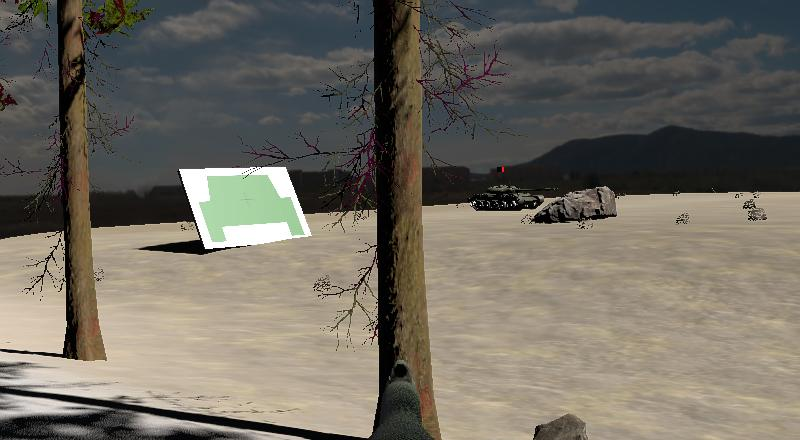Tank: (467, 181, 562, 213)
